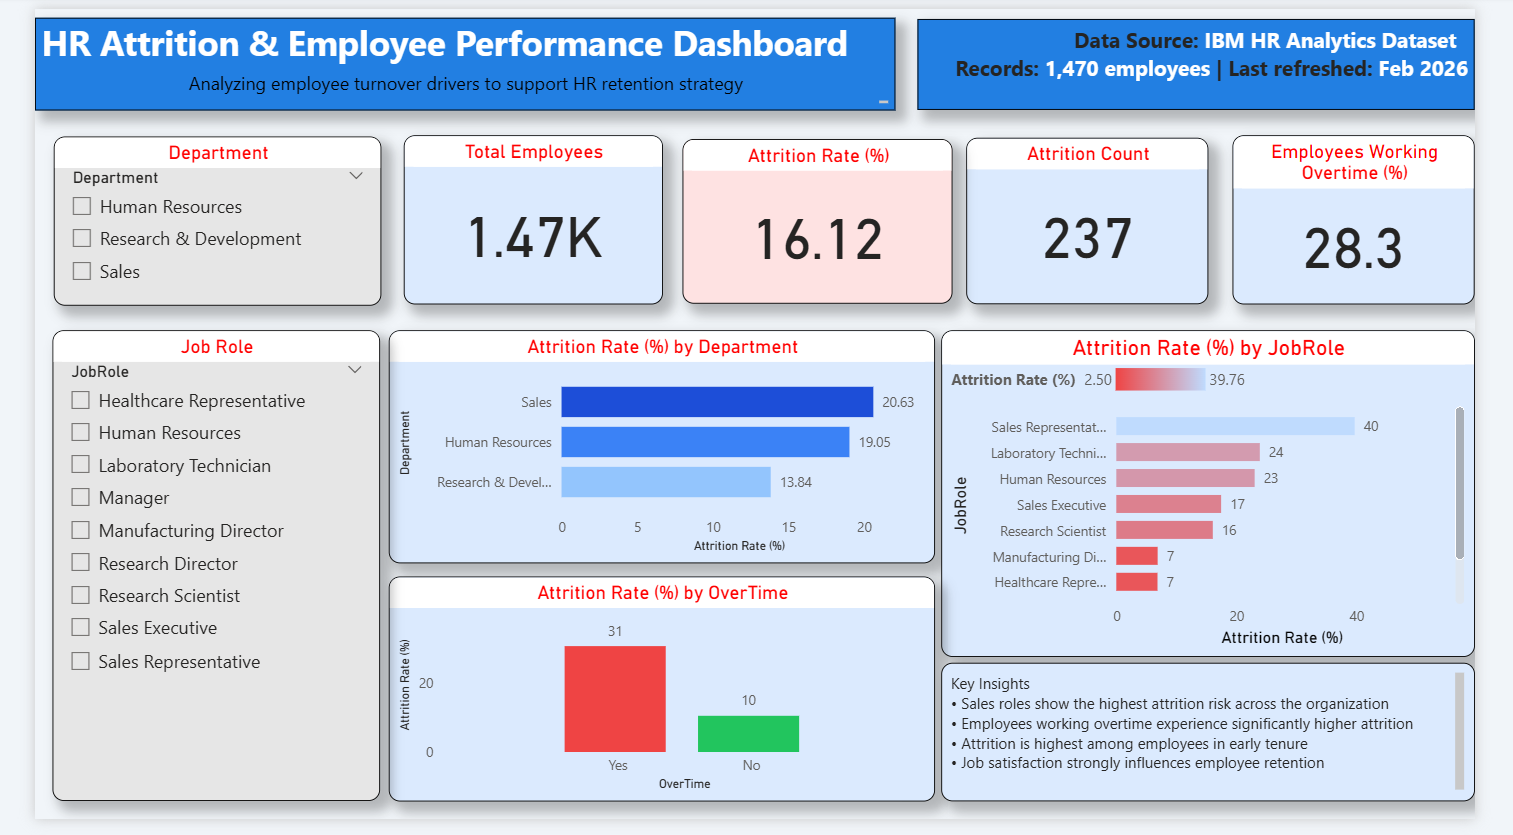

This screenshot's page, from the dashboard's own definition file:
{"tool":"powerbi","page":{"name":"HR Attrition Dashboard","canvas":[1280,720],"ordinal":0},"visuals":[{"type":"card","title":"Total Employees","fields":{"Values":["CountNonNull(cleaned_hr_attrition.EmployeeNumber)"]},"box":[327.8,112.2,230,150],"z":0},{"type":"card","title":"Attrition Count","fields":{"Values":["CountNonNull(cleaned_hr_attrition.Attrition)"]},"box":[827.8,114.4,215.6,147.8],"z":1000},{"type":"card","title":"Attrition Rate (%)","fields":{"Values":["cleaned_hr_attrition.Attrition Rate (%)"]},"box":[575.6,115.6,240,146.7],"z":2000},{"type":"clusteredBarChart","fields":{"Category":["cleaned_hr_attrition.Department"],"Y":["cleaned_hr_attrition.Attrition Rate (%)"]},"box":[314.3,285.7,485.7,207.1],"z":3000},{"type":"clusteredBarChart","fields":{"Category":["cleaned_hr_attrition.JobRole"],"Y":["cleaned_hr_attrition.Attrition Rate (%)"]},"box":[805.7,285.7,474.3,290],"z":4000},{"type":"clusteredColumnChart","fields":{"Category":["cleaned_hr_attrition.OverTime"],"Y":["cleaned_hr_attrition.Attrition Rate (%)"]},"box":[314.3,504.3,485.7,200],"z":5000},{"type":"slicer","title":"Department","fields":{"Values":["cleaned_hr_attrition.Department"]},"box":[17.1,112.9,291.4,150],"z":6000},{"type":"slicer","title":"Job Role","fields":{"Values":["cleaned_hr_attrition.JobRole"]},"box":[15.7,285.7,291.4,418.6],"z":7000},{"type":"textbox","box":[805.7,581.4,474.3,122.9],"z":8000},{"type":"textbox","title":"HR Attrition & Employee Performance Dashboard","box":[0,7.8,764.4,82.2],"z":9000},{"type":"card","title":"Employees Working Overtime (%)","fields":{"Values":["cleaned_hr_attrition.Overtime Employees (%)"]},"box":[1064.4,112.2,215.6,150],"z":10000},{"type":"textbox","title":"HR Attrition & Employee Performance Dashboard","box":[784.4,8.9,495.6,81.1],"z":11000}]}

Visuals, with their boxes in screenshot pixels (x1, y1, x2, y2), scaled from the page's 1280x720 canvas onto the 1513x835 screenshot:
"Total Employees" card: box=[387, 130, 659, 304]
"Attrition Count" card: box=[978, 133, 1233, 304]
"Attrition Rate (%)" card: box=[680, 134, 964, 304]
clusteredBarChart - cleaned_hr_attrition.Department x cleaned_hr_attrition.Attrition Rate (%): box=[372, 331, 946, 572]
clusteredBarChart - cleaned_hr_attrition.JobRole x cleaned_hr_attrition.Attrition Rate (%): box=[952, 331, 1512, 668]
clusteredColumnChart - cleaned_hr_attrition.OverTime x cleaned_hr_attrition.Attrition Rate (%): box=[372, 585, 946, 817]
"Department" slicer: box=[20, 131, 365, 305]
"Job Role" slicer: box=[19, 331, 363, 817]
textbox: box=[952, 674, 1512, 817]
"HR Attrition & Employee Performance Dashboard" textbox: box=[0, 9, 904, 104]
"Employees Working Overtime (%)" card: box=[1258, 130, 1512, 304]
"HR Attrition & Employee Performance Dashboard" textbox: box=[927, 10, 1512, 104]
